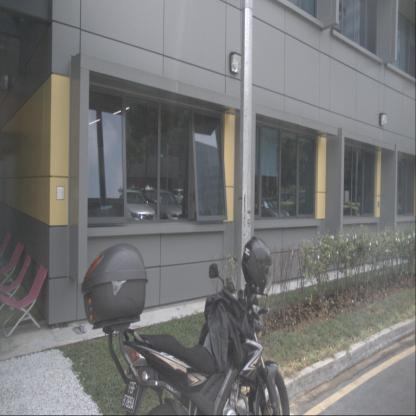vehicle-car: (136, 188, 188, 232), (112, 188, 157, 232), (240, 196, 290, 229), (272, 191, 297, 208), (167, 188, 189, 207)
vehicle-motorcycle: (81, 242, 290, 416)
